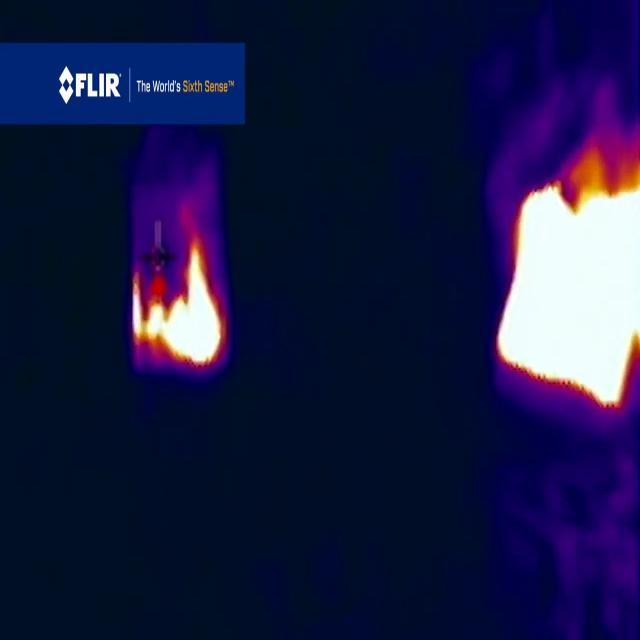fire: (493, 139, 640, 415), (130, 208, 234, 373)
